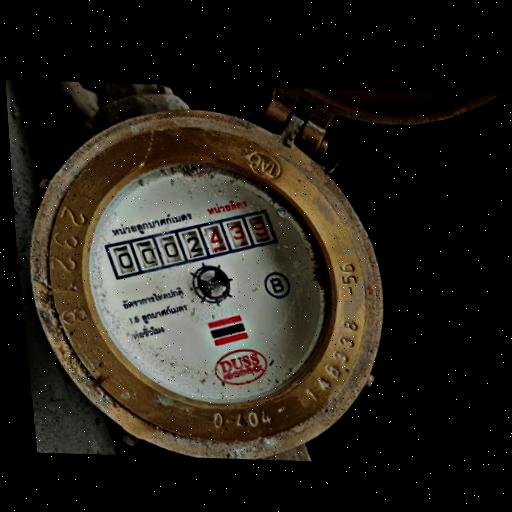0: (149, 225, 186, 270), (102, 237, 140, 280), (127, 232, 164, 275)
2: (174, 221, 209, 264)
3: (217, 210, 253, 253)
4: (194, 216, 230, 259)
9: (241, 205, 279, 251)
border_water_meter_number: (97, 195, 284, 290)
